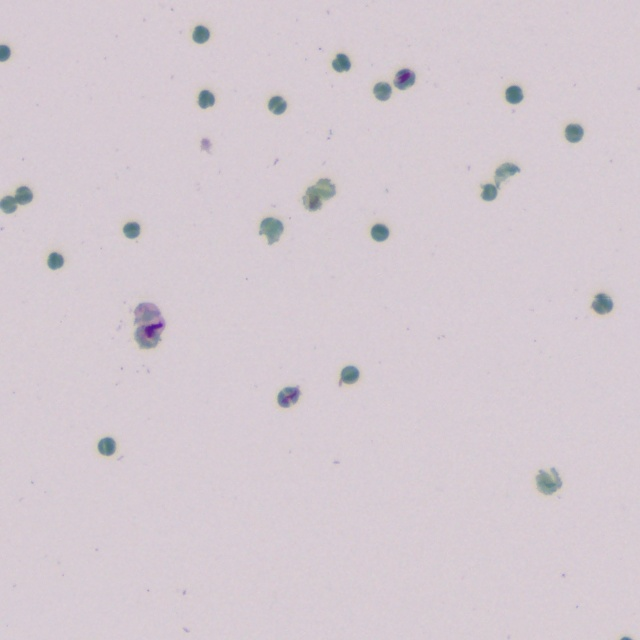intermediate: (277, 387, 299, 407), (395, 70, 413, 87)
non_viable: (536, 468, 561, 494), (259, 217, 283, 242), (496, 164, 517, 184), (592, 293, 612, 313), (268, 96, 286, 114), (565, 124, 583, 142), (340, 366, 358, 383), (98, 437, 115, 455), (332, 54, 350, 71), (505, 86, 522, 103), (198, 90, 214, 108), (371, 224, 388, 240), (193, 25, 209, 42), (14, 187, 30, 203), (123, 222, 139, 238), (48, 252, 63, 269), (375, 84, 390, 99), (1, 197, 16, 211), (482, 185, 495, 199), (0, 45, 9, 60)
